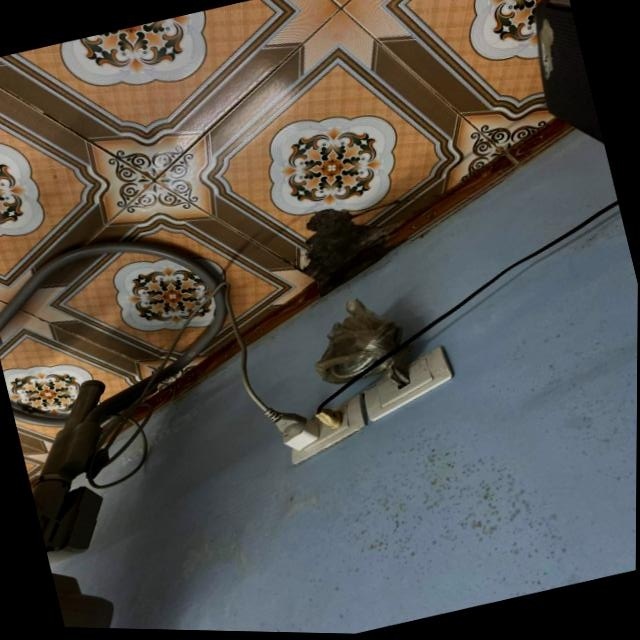outlet: (355, 341, 461, 424), (277, 390, 375, 467)
